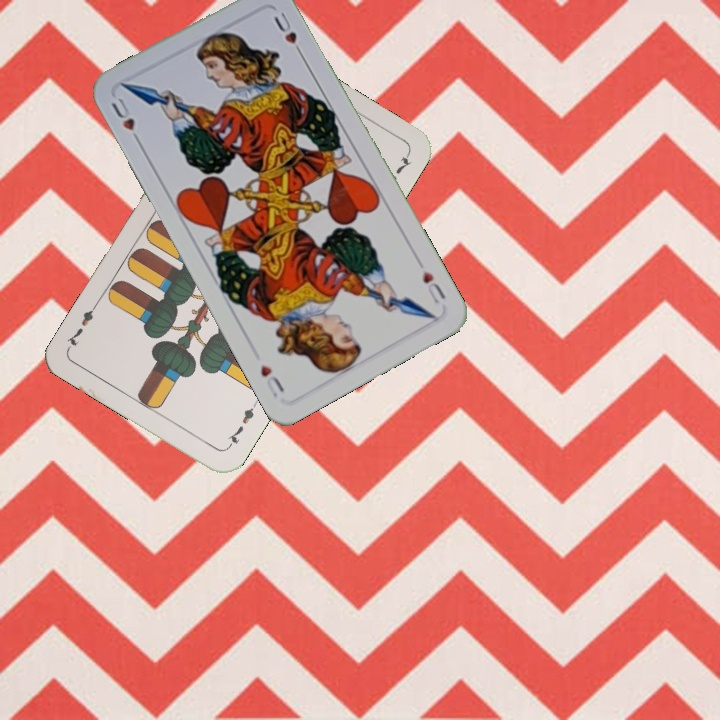E7: (223, 398, 260, 451)
HU: (107, 93, 144, 148), (418, 266, 449, 307)
